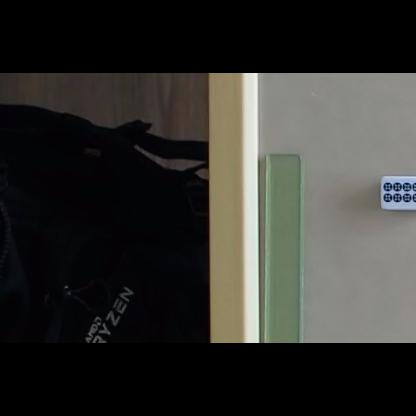8p: (382, 181, 416, 202)
